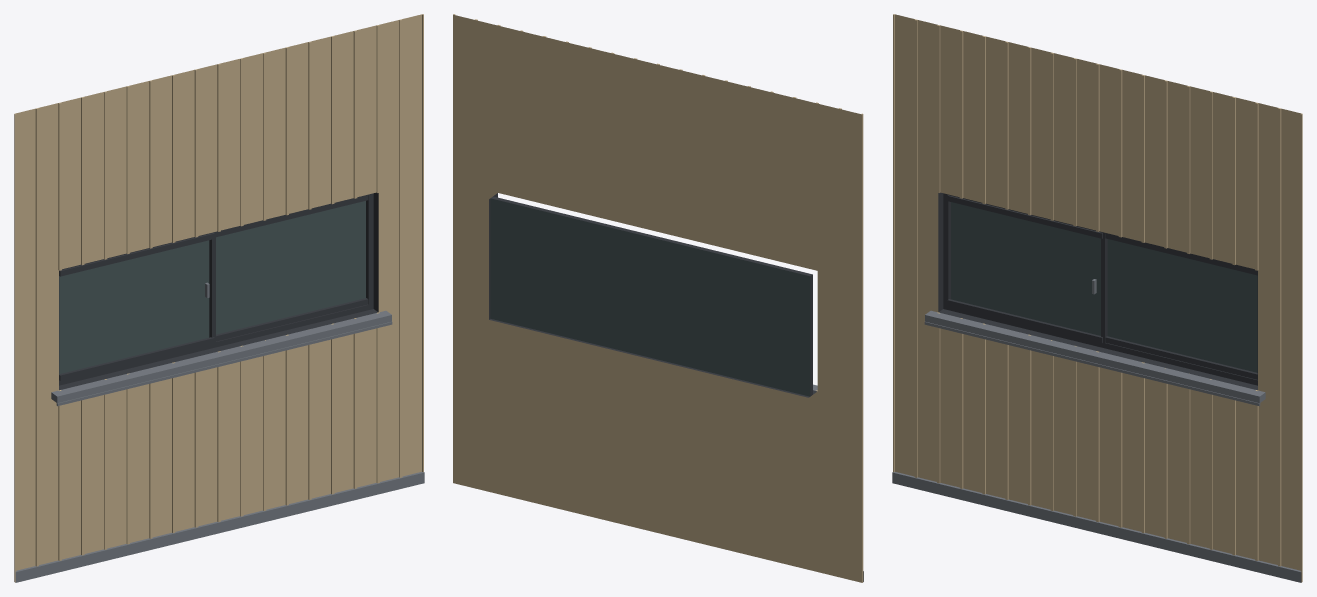
Rendered from mid-w1_close.fbx.
3 renders of one model, left to right at view 1: azimuth 30°, elevation 25°; view 2: azimuth 150°, elevation 25°; view 3: azimuth 330°, elevation 25°, orthographic.
Parts seen in each view (by area): view 1: a2000/800/mid-w1_close; view 2: a2000/800/mid-w1_close; view 3: a2000/800/mid-w1_close.
Boxes of the visible parts, x1=… form: a2000/800/mid-w1_close: x1=14, y1=14, x2=424, y2=582; a2000/800/mid-w1_close: x1=453, y1=14, x2=863, y2=582; a2000/800/mid-w1_close: x1=892, y1=14, x2=1302, y2=582.
Bounding box in the file's own units: 3.2 × 3.5 × 0.205.
